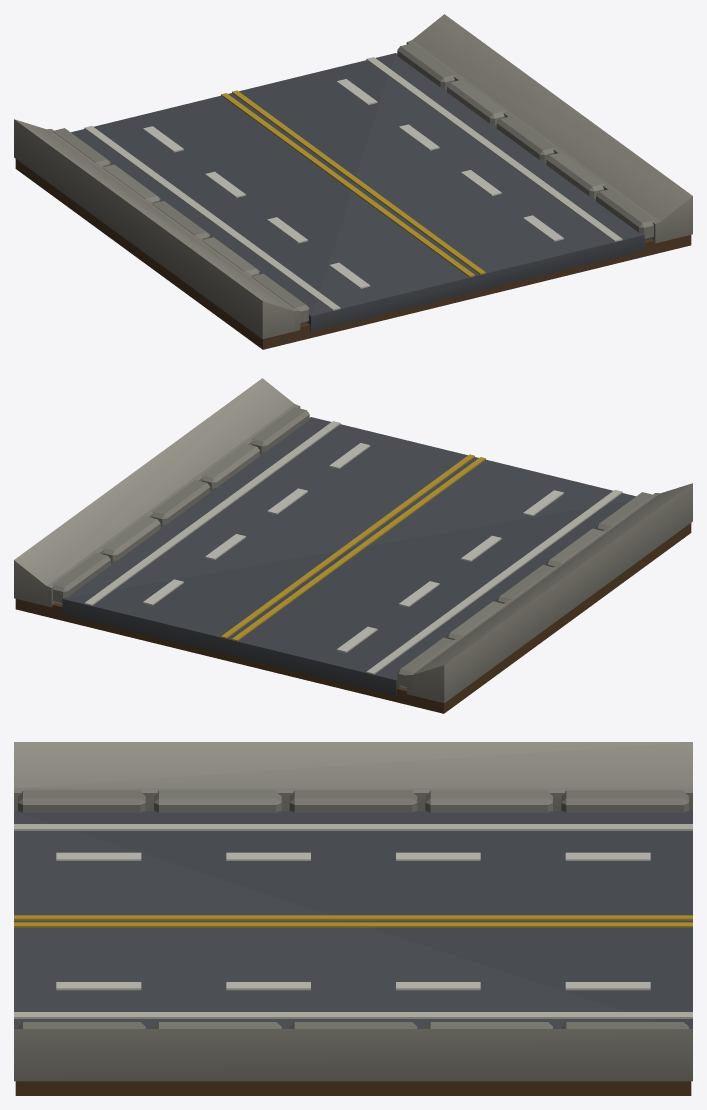
File: metropolis-road-straight-01.glb
3 renders of one model, top to bottom at view 1: azimuth 30°, elevation 25°; view 2: azimuth 150°, elevation 25°; view 3: azimuth 270°, elevation 25°, orthographic. The views are drawn at different scales.
Parts seen in each view (by area): view 1: metropolis_road_straight_01; view 2: metropolis_road_straight_01; view 3: metropolis_road_straight_01.
Boxes of the visible parts, left/top/right/bottom form: metropolis_road_straight_01: left=14, top=14, right=692, bottom=349; metropolis_road_straight_01: left=14, top=378, right=692, bottom=713; metropolis_road_straight_01: left=14, top=742, right=692, bottom=1095.
Size of the model in its own units: 4 by 0.44 by 4.
